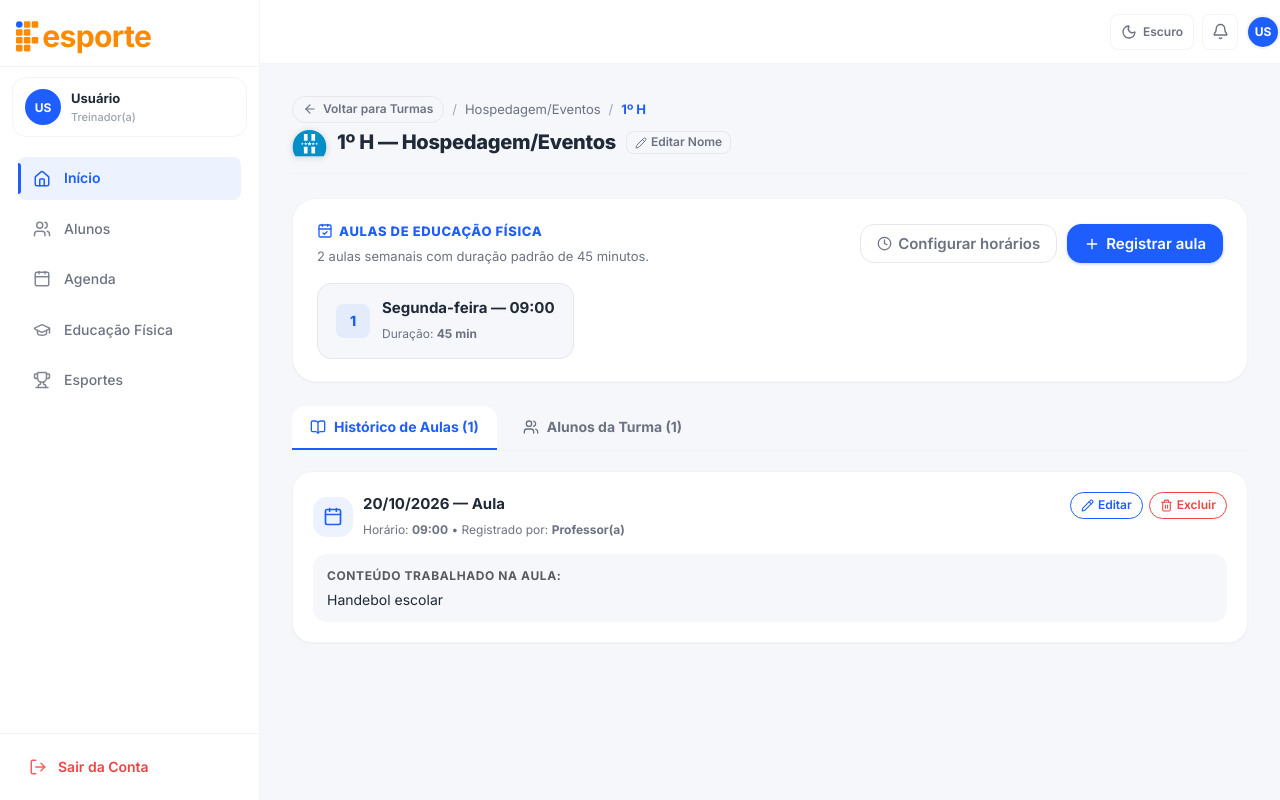
Test case: Ajustes no Portal do Treinador — Educação Física e Disputas de Desempate › 1. Educação Física › 1.2. Permite editar o nome da turma cadastrada e salva com sucesso preservando _id e dados
Expected: the text "1º H — Hospedagem/Eventos" is shown, [337,129,616,156]
Step 1. Click the button with aria-label "Editar nome da turma" → (678, 143), box [626,131,731,154]
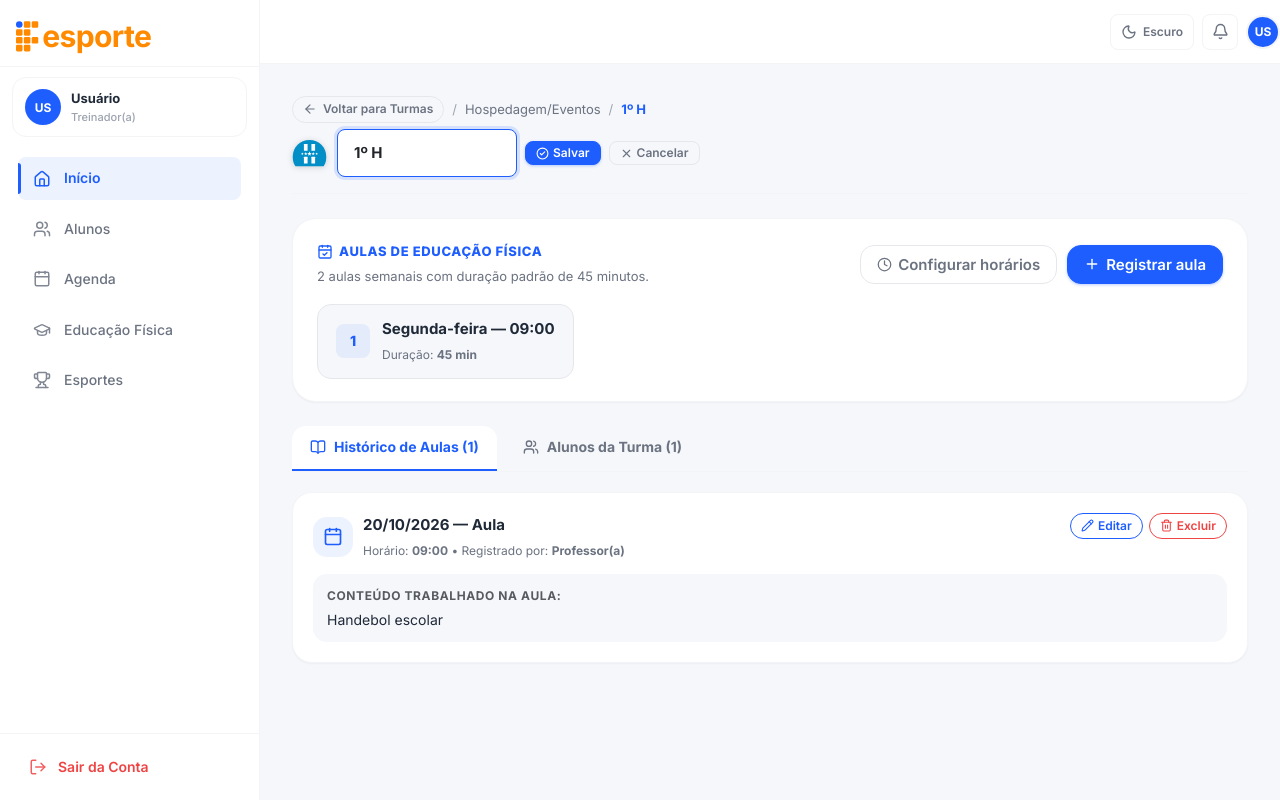
Now the field named "Novo nome da turma" is shown
Now the field named "Novo nome da turma" holds "1º H"
Step 2. Replace the text in the field named "Novo nome da turma" with "1º H (Vespertino)" → (427, 153), box [337,129,517,177]
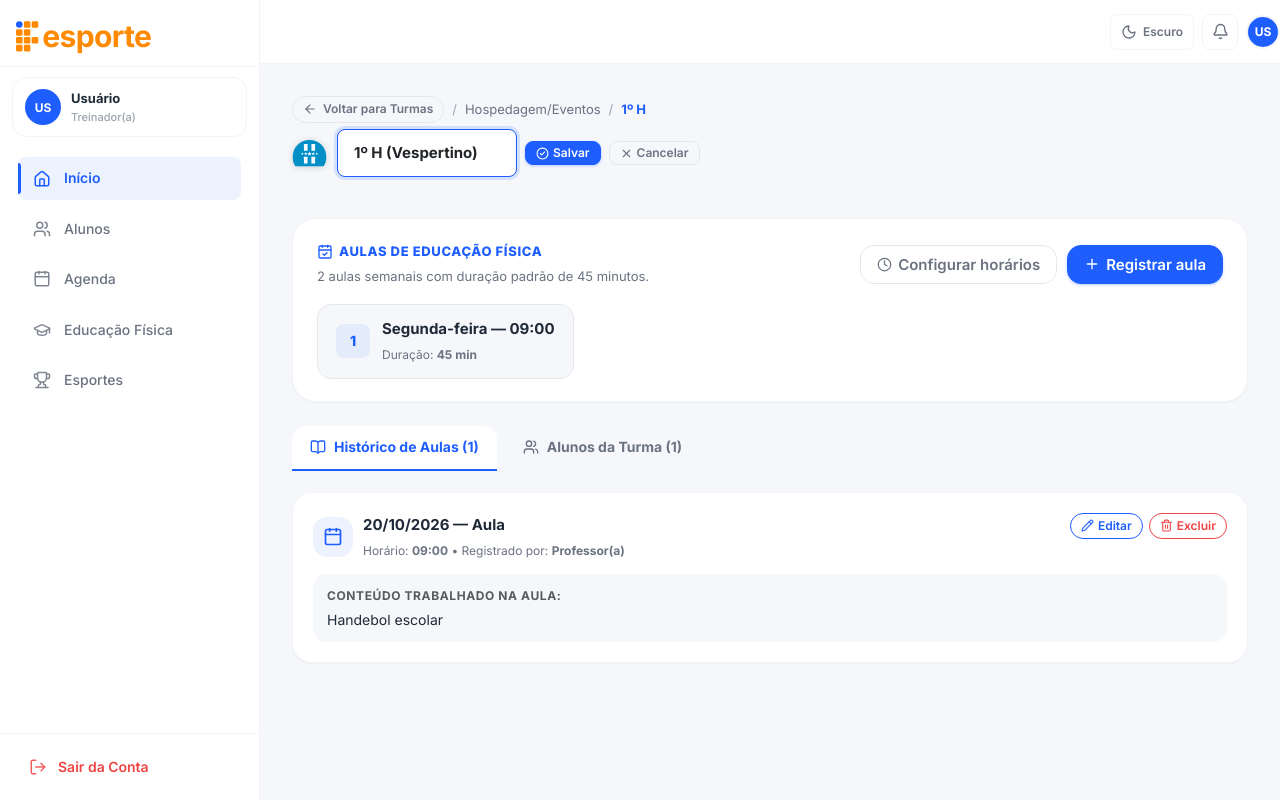
Step 3. Click the button "Salvar" → (563, 153), box [525,141,600,165]
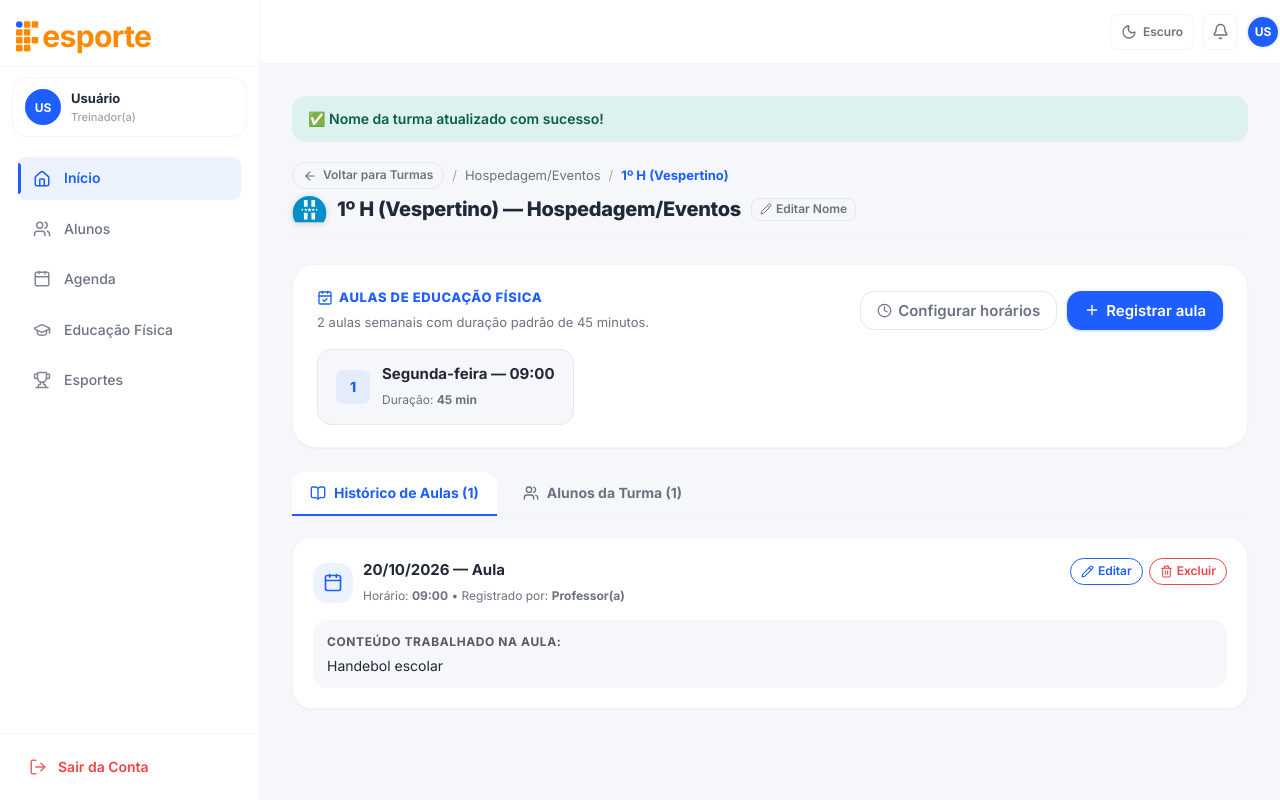
Expected: the text "Handebol escolar" is shown, [327,657,443,674]
Now the text "1º H (Vespertino) — Hospedagem/Eventos" is shown, box [337,196,741,223]
# Clica na aba de alunos para conferir os vínculos de alunos da turma
Step 4. Click the button "Alunos da Turma (1)" → (602, 494), box [505,472,700,516]
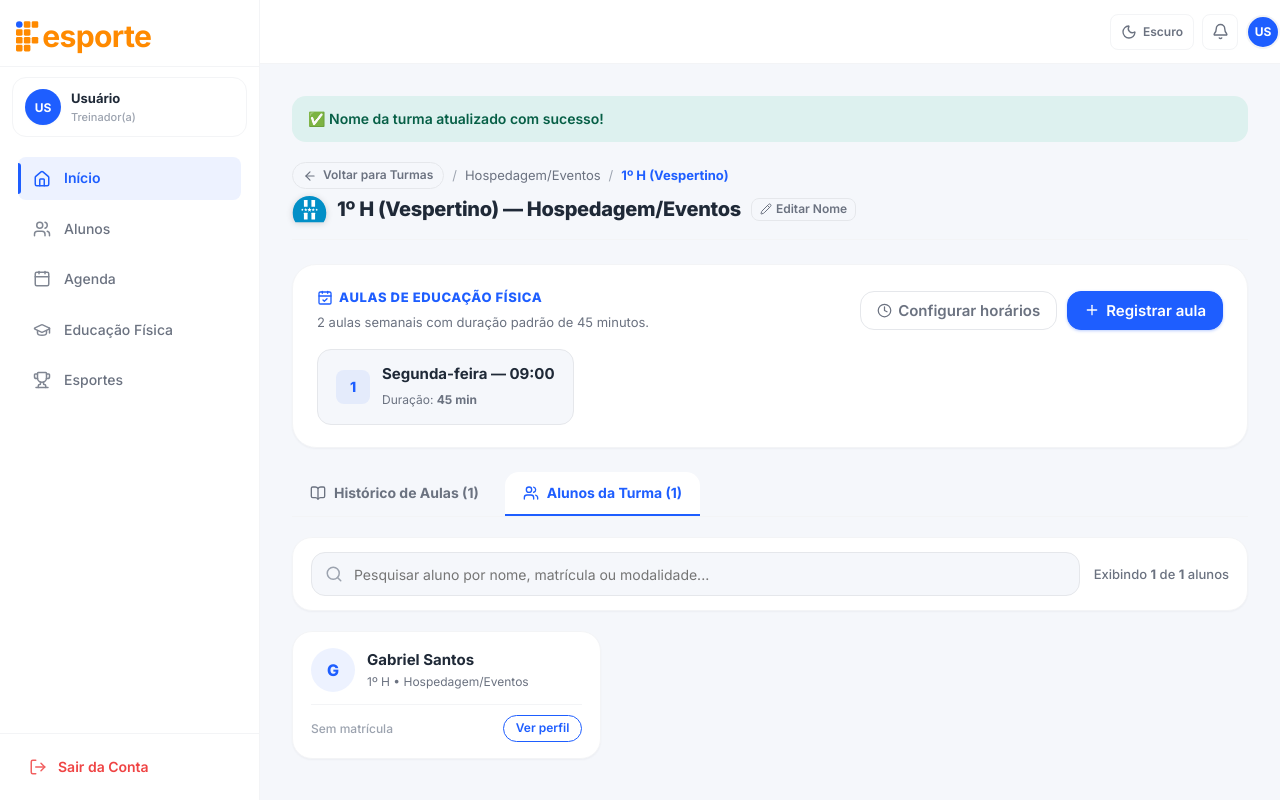
Now the heading "Gabriel Santos" is shown, box [367,650,474,669]
